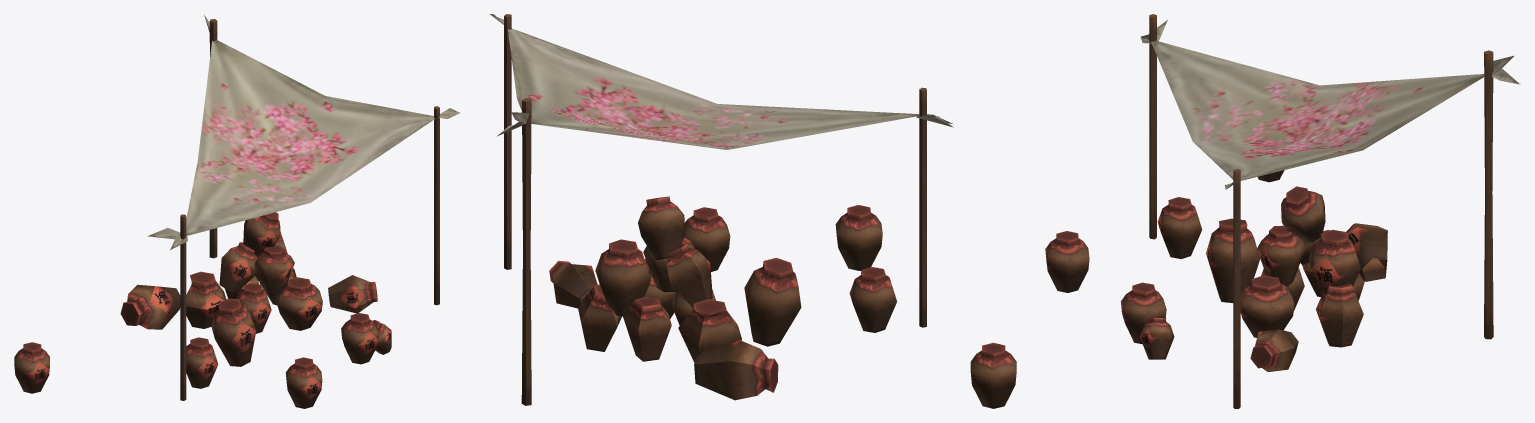
Rendered from M5_P_jiutan1.FBX.
3 views of the same model, side by side, from view 1: azimuth 30°, elevation 25°; view 2: azimuth 150°, elevation 25°; view 3: azimuth 270°, elevation 25° (orthographic). The views are drawn at different scales.
Parts seen in each view (by area): view 1: M5_P_jiutan01, M5_P_jiutan02; view 2: M5_P_jiutan01, M5_P_jiutan02; view 3: M5_P_jiutan01.
Boxes of the visible parts, x1=… form: M5_P_jiutan01: x1=120, y1=14, x2=459, y2=408; M5_P_jiutan02: x1=14, y1=342, x2=49, y2=393; M5_P_jiutan01: x1=490, y1=14, x2=953, y2=405; M5_P_jiutan02: x1=970, y1=342, x2=1016, y2=408; M5_P_jiutan01: x1=1045, y1=14, x2=1520, y2=408.
Bounding box in the file's own units: 593 × 325 × 472.
